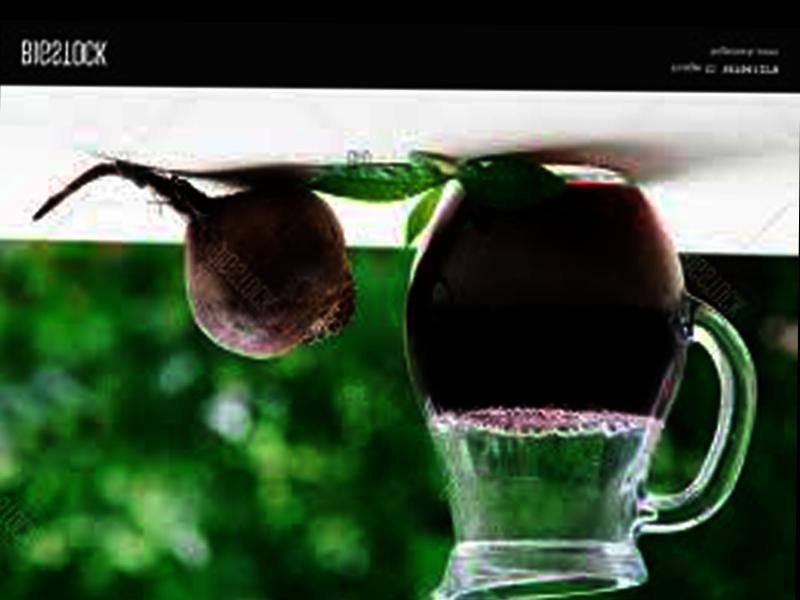Beet: (35, 159, 353, 357)
